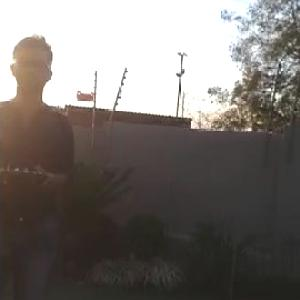follow: (0, 25, 79, 299)
